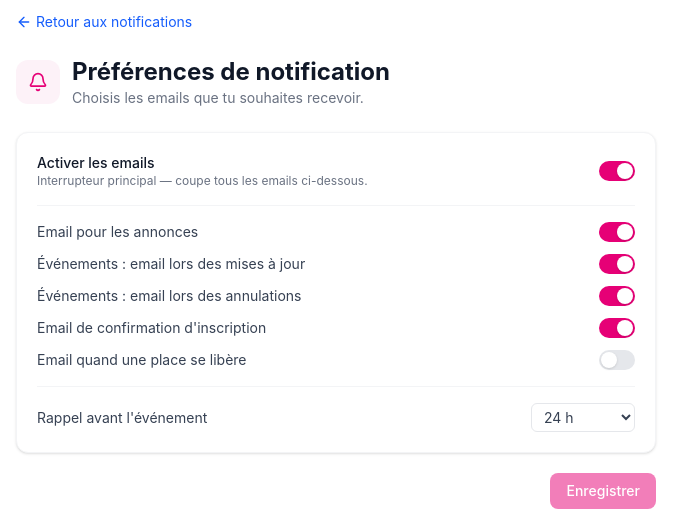
Test: NotificationPreferencesPage › keeps Save disabled when a change is reverted to the saved value
The image size is (673, 526).
Click the switch named "Activer les emails" at (617, 171), box left=599, top=161, right=635, bottom=181
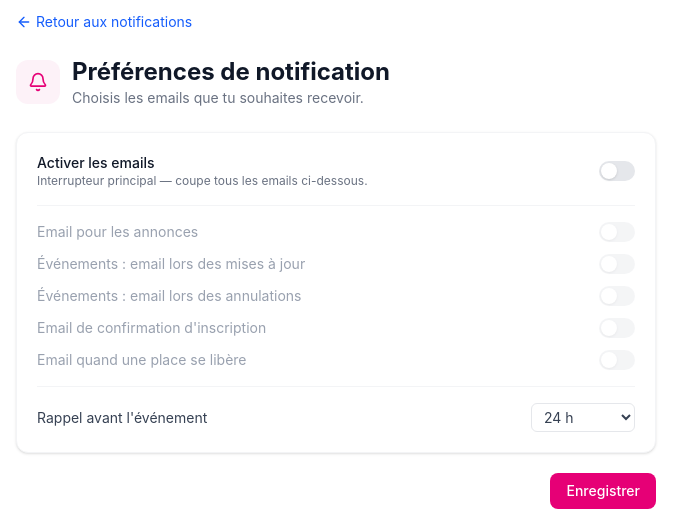
Expected: the button "Enregistrer" is enabled, left=550, top=473, right=656, bottom=509
Click the switch named "Activer les emails" at (617, 171), box left=599, top=161, right=635, bottom=181
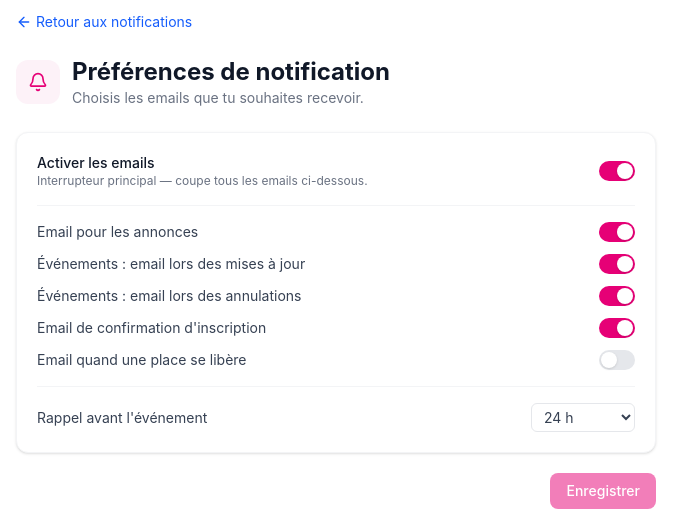
Expected: the button "Enregistrer" is disabled, left=550, top=473, right=656, bottom=509
